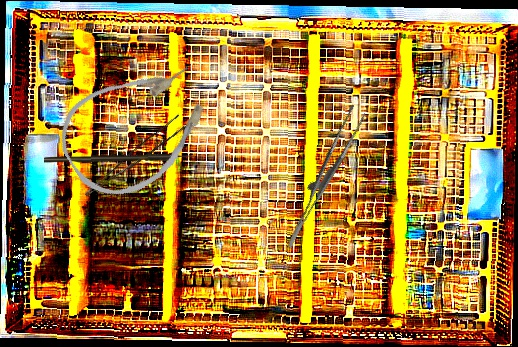Cannula: (45, 43, 229, 214)
Hook Surgical: (43, 153, 196, 164)
Tissue Forceps: (265, 104, 379, 249), (84, 111, 188, 208)
